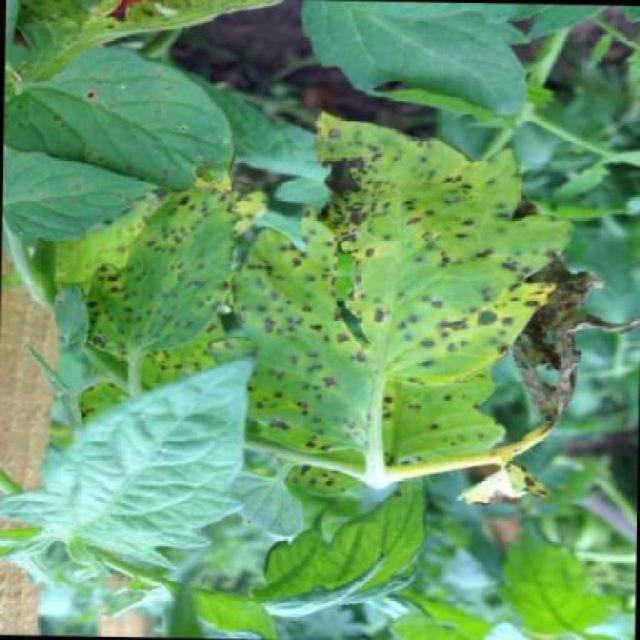Tomato leaf bacterial spot: (244, 106, 581, 484), (83, 186, 241, 358)
